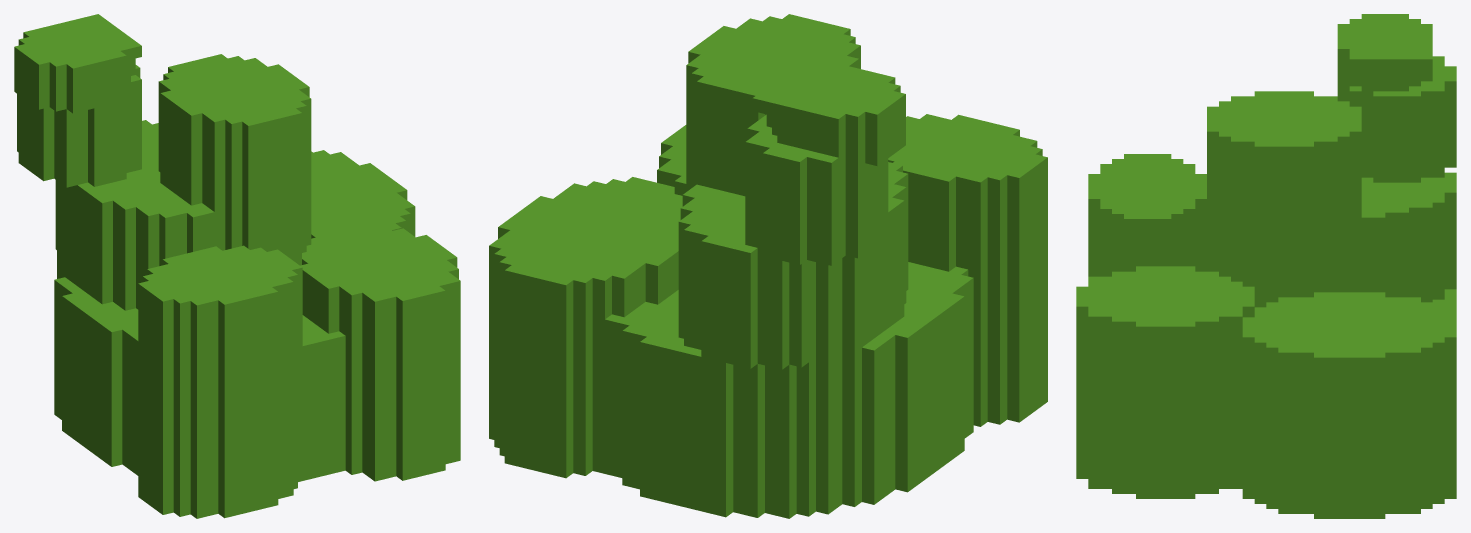
The picture shows the model from 3 angles, left to right: view 1: azimuth 30°, elevation 25°; view 2: azimuth 150°, elevation 25°; view 3: azimuth 270°, elevation 25°; orthographic projection. The views are drawn at different scales.
Size of the model in its own units: 32 by 32 by 32.
